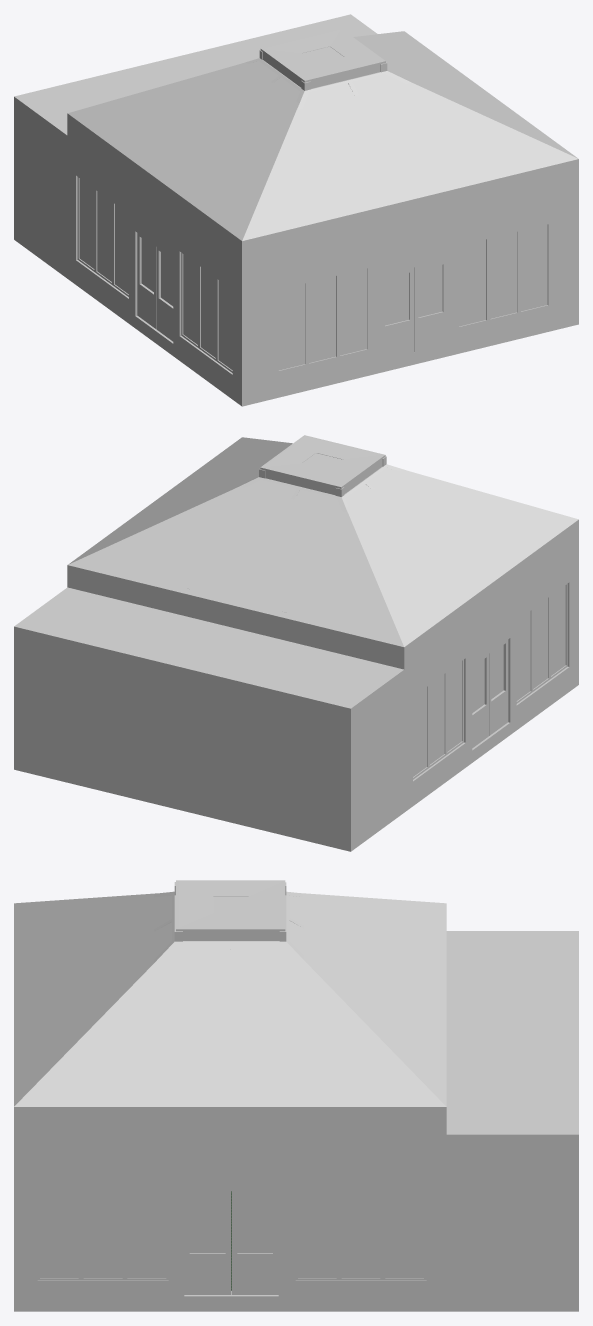
Rendered from Mesjid.fbx.
3 renders of one model, top to bottom at view 1: azimuth 30°, elevation 25°; view 2: azimuth 150°, elevation 25°; view 3: azimuth 270°, elevation 25°, orthographic. The views are drawn at different scales.
Visible parts, largest first — view 1: Plane.007, Plane.228, Plane.225, Plane.014, Plane.015, Plane.017, Cube.003, Plane.009, Cube.004; view 2: Plane.007, Plane.228, Plane.017, Plane.225, Plane.009, Cube.004, Cube.003; view 3: Plane.007, Plane.228, Plane.016, Plane.225, Plane.229, Cube.004, Cube.003, Plane.010.
Part boxes in pixels (x1,y1,x2,y2): Plane.007: [14, 14, 578, 406]; Plane.228: [79, 178, 547, 370]; Plane.225: [77, 177, 549, 373]; Plane.014: [381, 259, 447, 360]; Plane.015: [385, 264, 442, 325]; Plane.017: [137, 233, 173, 341]; Cube.003: [135, 315, 447, 372]; Plane.009: [141, 238, 173, 306]; Cube.004: [245, 50, 412, 110]; Plane.007: [14, 435, 578, 851]; Plane.228: [413, 585, 565, 776]; Plane.017: [472, 639, 508, 747]; Plane.225: [413, 584, 567, 779]; Plane.009: [472, 645, 503, 712]; Cube.004: [235, 456, 403, 512]; Cube.003: [472, 722, 510, 762]; Plane.007: [14, 880, 578, 1311]; Plane.228: [40, 1178, 423, 1277]; Plane.016: [184, 1191, 278, 1294]; Plane.225: [37, 1176, 426, 1280]; Plane.229: [189, 1195, 272, 1253]; Cube.004: [153, 882, 306, 964]; Cube.003: [184, 1290, 278, 1311]; Plane.010: [213, 897, 248, 913].
Bounding box in the file's own units: 64.21 × 44.92 × 75.32.
